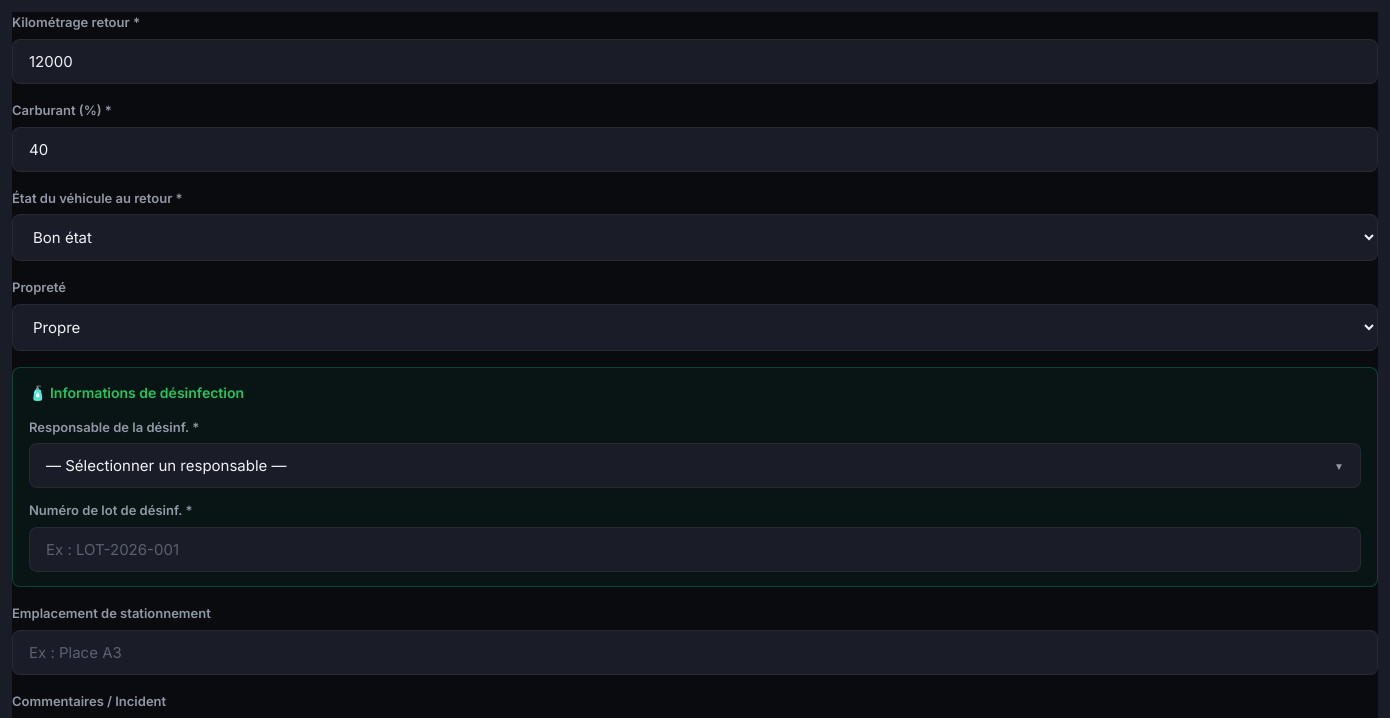
it: CheckInForm (QR) — responsable de la désinfection › charge les responsables via la route QR dédiée (et non GET /api/users, réservé aux gestionnaires)
This screenshot has width=1390, height=718.
Click the button "— Sélectionner un responsable — ▼": (166, 466) x1=29 y1=443 x2=1361 y2=488
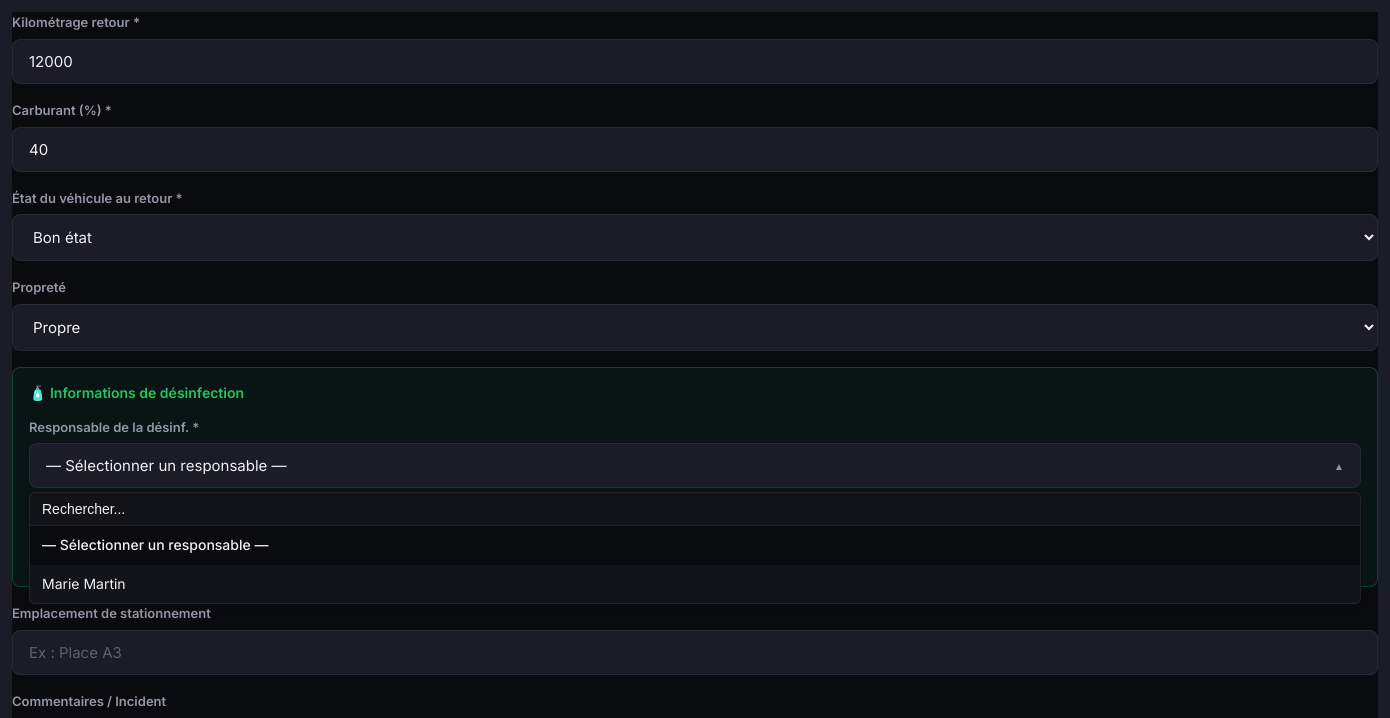
Check: the option "Marie Martin" is shown, box x1=42 y1=575 x2=126 y2=592
